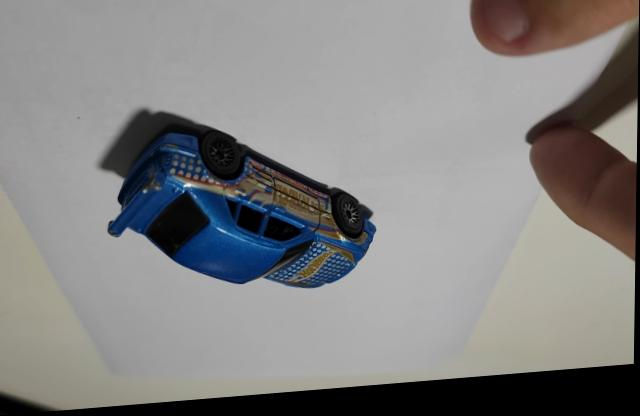04_MERZEDES: (109, 115, 379, 294)
